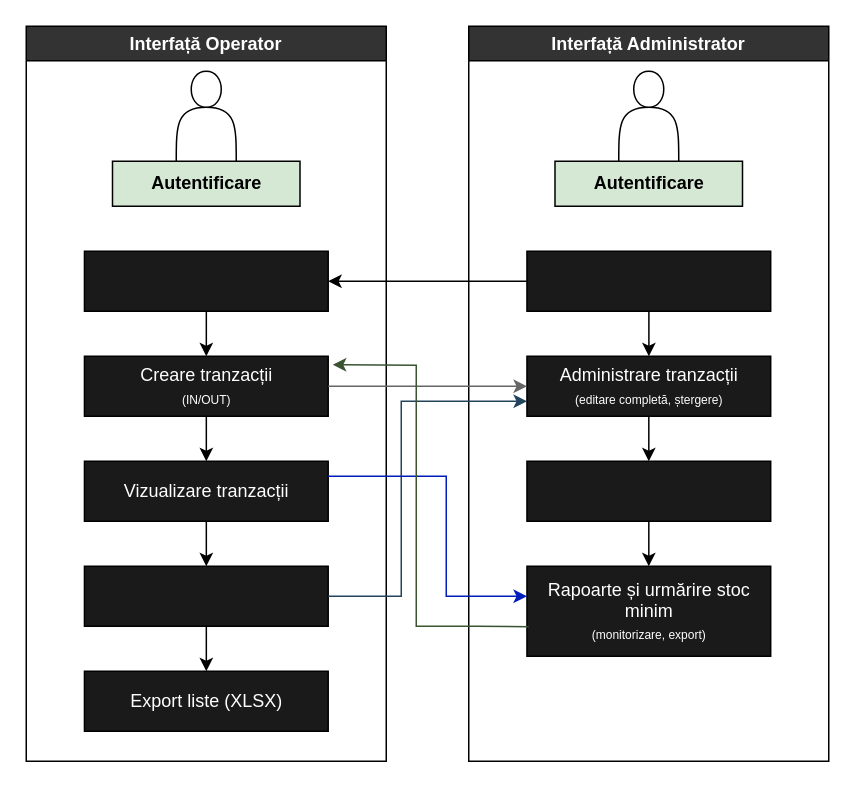
This 855x788 diagram has some shape labels left out. Here are the shapes that lost their labels. From the top down, the centre of each, then its label:
the point at 205,280: Vizualizare produse
the point at 648,280: Administrare produse (creare, editare, ștergere)
the point at 648,490: Administrare utilizatori (editare completă, ștergere)
the point at 205,595: Editare descriere tranzacție
